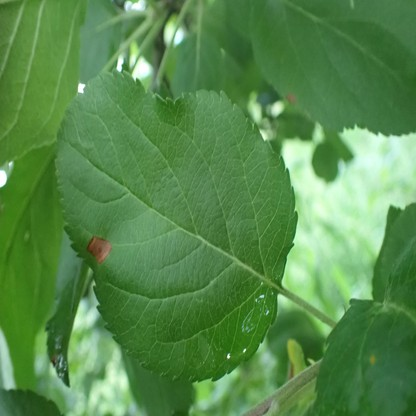frogeye_leaf_spot: (87, 235, 112, 264), (285, 94, 295, 104)
